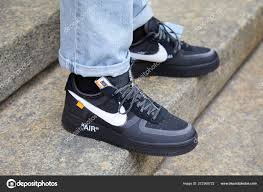nike: (59, 77, 157, 152), (119, 36, 172, 73)
